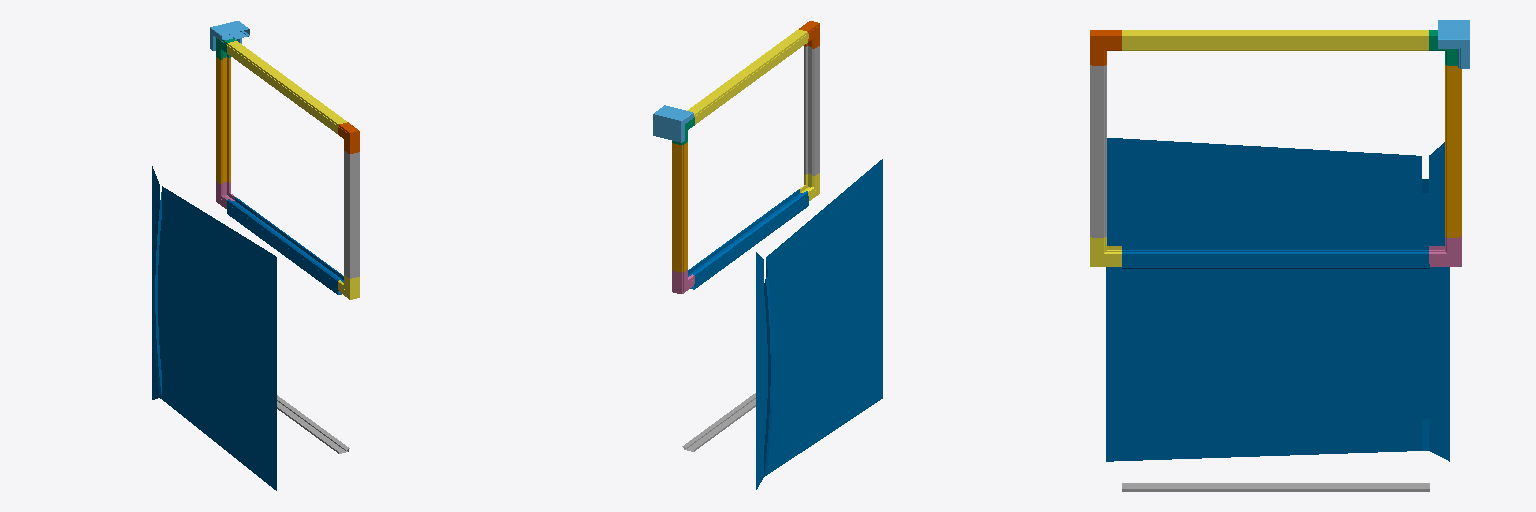
URDF robot description (partnet_87bae84777fe8b702bac1bcdfc2402d2):
<?xml version="1.0" ?>
<robot name="partnet_87bae84777fe8b702bac1bcdfc2402d2">
	<link name="base"/>
	<link name="link_0">
		<visual name="door_frame-27">
			<origin xyz="0.8040978092034378 -0.4571359999999993 -0.36598974550729024"/>
			<geometry>
				<mesh filename="textured_objs/original-4.obj"/>
			</geometry>
		</visual>
		<visual name="glass-28">
			<origin xyz="0.8040978092034378 -0.4571359999999993 -0.36598974550729024"/>
			<geometry>
				<mesh filename="textured_objs/original-2.obj"/>
			</geometry>
		</visual>
		<visual name="handle-29">
			<origin xyz="0.8040978092034378 -0.4571359999999993 -0.36598974550729024"/>
			<geometry>
				<mesh filename="textured_objs/original-3.obj"/>
			</geometry>
		</visual>
		<collision>
			<origin xyz="0.8040978092034378 -0.4571359999999993 -0.36598974550729024"/>
			<geometry>
				<mesh filename="textured_objs/original-4.obj"/>
			</geometry>
		</collision>
		<collision>
			<origin xyz="0.8040978092034378 -0.4571359999999993 -0.36598974550729024"/>
			<geometry>
				<mesh filename="textured_objs/original-2.obj"/>
			</geometry>
		</collision>
		<collision>
			<origin xyz="0.8040978092034378 -0.4571359999999993 -0.36598974550729024"/>
			<geometry>
				<mesh filename="textured_objs/original-3.obj"/>
			</geometry>
		</collision>
	</link>
	<joint name="joint_0" type="revolute">
		<origin xyz="-0.8040978092034378 0.4571359999999993 0.36598974550729024"/>
		<axis xyz="0 -1 0"/>
		<child link="link_0"/>
		<parent link="link_19"/>
		<limit lower="-0.0" upper="1.5707963267948966"/>
	</joint>
	<link name="link_1">
		<visual name="control_button-8">
			<origin xyz="-0.7917796010891323 0.14215177147656233 -0.3672469999999999"/>
			<geometry>
				<mesh filename="textured_objs/original-12.obj"/>
			</geometry>
		</visual>
		<collision>
			<origin xyz="-0.7917796010891323 0.14215177147656233 -0.3672469999999999"/>
			<geometry>
				<mesh filename="textured_objs/original-12.obj"/>
			</geometry>
		</collision>
	</link>
	<joint name="joint_1" type="fixed">
		<origin xyz="0.7917796010891323 -0.14215177147656233 0.3672469999999999"/>
		<axis xyz="0 0 -1"/>
		<child link="link_1"/>
		<parent link="link_19"/>
		<limit lower="0" upper="0.025"/>
	</joint>
	<link name="link_2">
		<visual name="control_button-9">
			<origin xyz="-0.7917796010891323 0.14215177147656233 -0.3672469999999999"/>
			<geometry>
				<mesh filename="textured_objs/original-13.obj"/>
			</geometry>
		</visual>
		<collision>
			<origin xyz="-0.7917796010891323 0.14215177147656233 -0.3672469999999999"/>
			<geometry>
				<mesh filename="textured_objs/original-13.obj"/>
			</geometry>
		</collision>
	</link>
	<joint name="joint_2" type="fixed">
		<origin xyz="0.7917796010891323 -0.14215177147656233 0.3672469999999999"/>
		<axis xyz="0 0 -1"/>
		<child link="link_2"/>
		<parent link="link_19"/>
		<limit lower="0" upper="0.025"/>
	</joint>
	<link name="link_3">
		<visual name="control_button-10">
			<origin xyz="-0.7917796010891323 0.14215177147656233 -0.3672469999999999"/>
			<geometry>
				<mesh filename="textured_objs/original-15.obj"/>
			</geometry>
		</visual>
		<collision>
			<origin xyz="-0.7917796010891323 0.14215177147656233 -0.3672469999999999"/>
			<geometry>
				<mesh filename="textured_objs/original-15.obj"/>
			</geometry>
		</collision>
	</link>
	<joint name="joint_3" type="fixed">
		<origin xyz="0.7917796010891323 -0.14215177147656233 0.3672469999999999"/>
		<axis xyz="0 0 -1"/>
		<child link="link_3"/>
		<parent link="link_19"/>
		<limit lower="0" upper="0.025"/>
	</joint>
	<link name="link_4">
		<visual name="control_button-11">
			<origin xyz="-0.7917796010891323 0.14215177147656233 -0.3672469999999999"/>
			<geometry>
				<mesh filename="textured_objs/original-14.obj"/>
			</geometry>
		</visual>
		<collision>
			<origin xyz="-0.7917796010891323 0.14215177147656233 -0.3672469999999999"/>
			<geometry>
				<mesh filename="textured_objs/original-14.obj"/>
			</geometry>
		</collision>
	</link>
	<joint name="joint_4" type="fixed">
		<origin xyz="0.7917796010891323 -0.14215177147656233 0.3672469999999999"/>
		<axis xyz="0 0 -1"/>
		<child link="link_4"/>
		<parent link="link_19"/>
		<limit lower="0" upper="0.025"/>
	</joint>
	<link name="link_5">
		<visual name="control_button-12">
			<origin xyz="-0.7917796010891323 0.14215177147656233 -0.3672469999999999"/>
			<geometry>
				<mesh filename="textured_objs/original-16.obj"/>
			</geometry>
		</visual>
		<collision>
			<origin xyz="-0.7917796010891323 0.14215177147656233 -0.3672469999999999"/>
			<geometry>
				<mesh filename="textured_objs/original-16.obj"/>
			</geometry>
		</collision>
	</link>
	<joint name="joint_5" type="fixed">
		<origin xyz="0.7917796010891323 -0.14215177147656233 0.3672469999999999"/>
		<axis xyz="0 0 -1"/>
		<child link="link_5"/>
		<parent link="link_19"/>
		<limit lower="0" upper="0.025"/>
	</joint>
	<link name="link_6">
		<visual name="control_button-13">
			<origin xyz="-0.7917796010891323 0.14215177147656233 -0.3672469999999999"/>
			<geometry>
				<mesh filename="textured_objs/original-26.obj"/>
			</geometry>
		</visual>
		<collision>
			<origin xyz="-0.7917796010891323 0.14215177147656233 -0.3672469999999999"/>
			<geometry>
				<mesh filename="textured_objs/original-26.obj"/>
			</geometry>
		</collision>
	</link>
	<joint name="joint_6" type="fixed">
		<origin xyz="0.7917796010891323 -0.14215177147656233 0.3672469999999999"/>
		<axis xyz="0 0 -1"/>
		<child link="link_6"/>
		<parent link="link_19"/>
		<limit lower="0" upper="0.025"/>
	</joint>
	<link name="link_7">
		<visual name="control_button-14">
			<origin xyz="-0.7917796010891323 0.14215177147656233 -0.3672469999999999"/>
			<geometry>
				<mesh filename="textured_objs/original-17.obj"/>
			</geometry>
		</visual>
		<collision>
			<origin xyz="-0.7917796010891323 0.14215177147656233 -0.3672469999999999"/>
			<geometry>
				<mesh filename="textured_objs/original-17.obj"/>
			</geometry>
		</collision>
	</link>
	<joint name="joint_7" type="fixed">
		<origin xyz="0.7917796010891323 -0.14215177147656233 0.3672469999999999"/>
		<axis xyz="0 0 -1"/>
		<child link="link_7"/>
		<parent link="link_19"/>
		<limit lower="0" upper="0.025"/>
	</joint>
	<link name="link_8">
		<visual name="control_button-15">
			<origin xyz="-0.7917796010891323 0.14215177147656233 -0.3672469999999999"/>
			<geometry>
				<mesh filename="textured_objs/original-19.obj"/>
			</geometry>
		</visual>
		<collision>
			<origin xyz="-0.7917796010891323 0.14215177147656233 -0.3672469999999999"/>
			<geometry>
				<mesh filename="textured_objs/original-19.obj"/>
			</geometry>
		</collision>
	</link>
	<joint name="joint_8" type="fixed">
		<origin xyz="0.7917796010891323 -0.14215177147656233 0.3672469999999999"/>
		<axis xyz="0 0 -1"/>
		<child link="link_8"/>
		<parent link="link_19"/>
		<limit lower="0" upper="0.025"/>
	</joint>
	<link name="link_9">
		<visual name="control_button-16">
			<origin xyz="-0.7917796010891323 0.14215177147656233 -0.3672469999999999"/>
			<geometry>
				<mesh filename="textured_objs/original-20.obj"/>
			</geometry>
		</visual>
		<collision>
			<origin xyz="-0.7917796010891323 0.14215177147656233 -0.3672469999999999"/>
			<geometry>
				<mesh filename="textured_objs/original-20.obj"/>
			</geometry>
		</collision>
	</link>
	<joint name="joint_9" type="fixed">
		<origin xyz="0.7917796010891323 -0.14215177147656233 0.3672469999999999"/>
		<axis xyz="0 0 -1"/>
		<child link="link_9"/>
		<parent link="link_19"/>
		<limit lower="0" upper="0.025"/>
	</joint>
	<link name="link_10">
		<visual name="control_button-17">
			<origin xyz="-0.7917796010891323 0.14215177147656233 -0.3672469999999999"/>
			<geometry>
				<mesh filename="textured_objs/original-23.obj"/>
			</geometry>
		</visual>
		<collision>
			<origin xyz="-0.7917796010891323 0.14215177147656233 -0.3672469999999999"/>
			<geometry>
				<mesh filename="textured_objs/original-23.obj"/>
			</geometry>
		</collision>
	</link>
	<joint name="joint_10" type="fixed">
		<origin xyz="0.7917796010891323 -0.14215177147656233 0.3672469999999999"/>
		<axis xyz="0 0 -1"/>
		<child link="link_10"/>
		<parent link="link_19"/>
		<limit lower="0" upper="0.025"/>
	</joint>
	<link name="link_11">
		<visual name="control_button-18">
			<origin xyz="-0.7917796010891323 0.14215177147656233 -0.3672469999999999"/>
			<geometry>
				<mesh filename="textured_objs/original-27.obj"/>
			</geometry>
		</visual>
		<collision>
			<origin xyz="-0.7917796010891323 0.14215177147656233 -0.3672469999999999"/>
			<geometry>
				<mesh filename="textured_objs/original-27.obj"/>
			</geometry>
		</collision>
	</link>
	<joint name="joint_11" type="fixed">
		<origin xyz="0.7917796010891323 -0.14215177147656233 0.3672469999999999"/>
		<axis xyz="0 0 -1"/>
		<child link="link_11"/>
		<parent link="link_19"/>
		<limit lower="0" upper="0.025"/>
	</joint>
	<link name="link_12">
		<visual name="control_button-19">
			<origin xyz="-0.7917796010891323 0.14215177147656233 -0.3672469999999999"/>
			<geometry>
				<mesh filename="textured_objs/original-21.obj"/>
			</geometry>
		</visual>
		<collision>
			<origin xyz="-0.7917796010891323 0.14215177147656233 -0.3672469999999999"/>
			<geometry>
				<mesh filename="textured_objs/original-21.obj"/>
			</geometry>
		</collision>
	</link>
	<joint name="joint_12" type="fixed">
		<origin xyz="0.7917796010891323 -0.14215177147656233 0.3672469999999999"/>
		<axis xyz="0 0 -1"/>
		<child link="link_12"/>
		<parent link="link_19"/>
		<limit lower="0" upper="0.025"/>
	</joint>
	<link name="link_13">
		<visual name="control_button-20">
			<origin xyz="-0.7917796010891323 0.14215177147656233 -0.3672469999999999"/>
			<geometry>
				<mesh filename="textured_objs/original-22.obj"/>
			</geometry>
		</visual>
		<collision>
			<origin xyz="-0.7917796010891323 0.14215177147656233 -0.3672469999999999"/>
			<geometry>
				<mesh filename="textured_objs/original-22.obj"/>
			</geometry>
		</collision>
	</link>
	<joint name="joint_13" type="fixed">
		<origin xyz="0.7917796010891323 -0.14215177147656233 0.3672469999999999"/>
		<axis xyz="0 0 -1"/>
		<child link="link_13"/>
		<parent link="link_19"/>
		<limit lower="0" upper="0.025"/>
	</joint>
	<link name="link_14">
		<visual name="control_button-21">
			<origin xyz="-0.7917796010891323 0.14215177147656233 -0.3672469999999999"/>
			<geometry>
				<mesh filename="textured_objs/original-18.obj"/>
			</geometry>
		</visual>
		<collision>
			<origin xyz="-0.7917796010891323 0.14215177147656233 -0.3672469999999999"/>
			<geometry>
				<mesh filename="textured_objs/original-18.obj"/>
			</geometry>
		</collision>
	</link>
	<joint name="joint_14" type="fixed">
		<origin xyz="0.7917796010891323 -0.14215177147656233 0.3672469999999999"/>
		<axis xyz="0 0 -1"/>
		<child link="link_14"/>
		<parent link="link_19"/>
		<limit lower="0" upper="0.025"/>
	</joint>
	<link name="link_15">
		<visual name="control_button-22">
			<origin xyz="-0.7917796010891323 0.14215177147656233 -0.3672469999999999"/>
			<geometry>
				<mesh filename="textured_objs/original-25.obj"/>
			</geometry>
		</visual>
		<collision>
			<origin xyz="-0.7917796010891323 0.14215177147656233 -0.3672469999999999"/>
			<geometry>
				<mesh filename="textured_objs/original-25.obj"/>
			</geometry>
		</collision>
	</link>
	<joint name="joint_15" type="fixed">
		<origin xyz="0.7917796010891323 -0.14215177147656233 0.3672469999999999"/>
		<axis xyz="0 0 -1"/>
		<child link="link_15"/>
		<parent link="link_19"/>
		<limit lower="0" upper="0.025"/>
	</joint>
	<link name="link_16">
		<visual name="control_button-23">
			<origin xyz="-0.7917796010891323 0.14215177147656233 -0.3672469999999999"/>
			<geometry>
				<mesh filename="textured_objs/original-11.obj"/>
			</geometry>
		</visual>
		<collision>
			<origin xyz="-0.7917796010891323 0.14215177147656233 -0.3672469999999999"/>
			<geometry>
				<mesh filename="textured_objs/original-11.obj"/>
			</geometry>
		</collision>
	</link>
	<joint name="joint_16" type="fixed">
		<origin xyz="0.7917796010891323 -0.14215177147656233 0.3672469999999999"/>
		<axis xyz="0 0 -1"/>
		<child link="link_16"/>
		<parent link="link_19"/>
		<limit lower="0" upper="0.025"/>
	</joint>
	<link name="link_17">
		<visual name="control_button-24">
			<origin xyz="-0.7917796010891323 0.14215177147656233 -0.3672469999999999"/>
			<geometry>
				<mesh filename="textured_objs/original-10.obj"/>
			</geometry>
		</visual>
		<collision>
			<origin xyz="-0.7917796010891323 0.14215177147656233 -0.3672469999999999"/>
			<geometry>
				<mesh filename="textured_objs/original-10.obj"/>
			</geometry>
		</collision>
	</link>
	<joint name="joint_17" type="fixed">
		<origin xyz="0.7917796010891323 -0.14215177147656233 0.3672469999999999"/>
		<axis xyz="0 0 -1"/>
		<child link="link_17"/>
		<parent link="link_19"/>
		<limit lower="0" upper="0.025"/>
	</joint>
	<link name="link_18">
		<visual name="control_button-25">
			<origin xyz="-0.7917796010891323 0.14215177147656233 -0.3672469999999999"/>
			<geometry>
				<mesh filename="textured_objs/original-24.obj"/>
			</geometry>
		</visual>
		<collision>
			<origin xyz="-0.7917796010891323 0.14215177147656233 -0.3672469999999999"/>
			<geometry>
				<mesh filename="textured_objs/original-24.obj"/>
			</geometry>
		</collision>
	</link>
	<joint name="joint_18" type="fixed">
		<origin xyz="0.7917796010891323 -0.14215177147656233 0.3672469999999999"/>
		<axis xyz="0 0 -1"/>
		<child link="link_18"/>
		<parent link="link_19"/>
		<limit lower="0" upper="0.025"/>
	</joint>
	<link name="link_19">
		<visual name="surface-4">
			<origin xyz="0 0 0"/>
			<geometry>
				<mesh filename="textured_objs/new-0.obj"/>
			</geometry>
		</visual>
		<visual name="frame-5">
			<origin xyz="0 0 0"/>
			<geometry>
				<mesh filename="textured_objs/new-3.obj"/>
			</geometry>
		</visual>
		<visual name="frame-5">
			<origin xyz="0 0 0"/>
			<geometry>
				<mesh filename="textured_objs/original-6.obj"/>
			</geometry>
		</visual>
		<visual name="frame-5">
			<origin xyz="0 0 0"/>
			<geometry>
				<mesh filename="textured_objs/new-1.obj"/>
			</geometry>
		</visual>
		<visual name="display_panel-26">
			<origin xyz="0 0 0"/>
			<geometry>
				<mesh filename="textured_objs/new-2.obj"/>
			</geometry>
		</visual>
		<collision>
			<origin xyz="0 0 0"/>
			<geometry>
				<mesh filename="textured_objs/new-0.obj"/>
			</geometry>
		</collision>
		<collision>
			<origin xyz="0 0 0"/>
			<geometry>
				<mesh filename="textured_objs/new-3.obj"/>
			</geometry>
		</collision>
		<collision>
			<origin xyz="0 0 0"/>
			<geometry>
				<mesh filename="textured_objs/original-6.obj"/>
			</geometry>
		</collision>
		<collision>
			<origin xyz="0 0 0"/>
			<geometry>
				<mesh filename="textured_objs/new-1.obj"/>
			</geometry>
		</collision>
		<collision>
			<origin xyz="0 0 0"/>
			<geometry>
				<mesh filename="textured_objs/new-2.obj"/>
			</geometry>
		</collision>
	</link>
	<joint name="joint_19" type="fixed">
		<origin rpy="1.570796326794897 0 -1.570796326794897" xyz="0 0 0"/>
		<child link="link_19"/>
		<parent link="base"/>
	</joint>
</robot>

--- Facts derived from the render (not from the file) ---
Views: 3 orthographic renders of the robot side by side, from view 1: azimuth 30°, elevation 25°; view 2: azimuth 150°, elevation 25°; view 3: azimuth 270°, elevation 25°.
Robot: partnet_87bae84777fe8b702bac1bcdfc2402d2 — 21 links, 20 joints (1 revolute, 19 fixed); root link base; default pose: all joints at 0.
Visible links, largest first — view 1: link_19, link_18, link_11, link_6, link_15, link_14, link_0, link_3; view 2: link_19, link_18, link_11, link_6, link_15, link_0, link_14, link_3; view 3: link_19, link_18, link_11, link_6, link_15, link_3, link_14, link_0, link_12, link_13, link_10.
Boxes of the visible links, <box> form: link_19: <box>152,166,276,490</box>; link_18: <box>227,41,346,133</box>; link_11: <box>227,197,343,288</box>; link_6: <box>344,151,359,278</box>; link_15: <box>216,57,230,183</box>; link_14: <box>277,395,349,453</box>; link_0: <box>210,21,249,50</box>; link_3: <box>227,209,341,294</box>; link_19: <box>756,159,882,489</box>; link_18: <box>687,29,808,124</box>; link_11: <box>688,189,808,285</box>; link_6: <box>804,46,819,175</box>; link_15: <box>672,142,687,272</box>; link_0: <box>653,105,693,142</box>; link_14: <box>682,393,755,451</box>; link_3: <box>690,201,808,289</box>; link_19: <box>1106,138,1449,461</box>; link_18: <box>1122,30,1428,50</box>; link_11: <box>1122,246,1428,263</box>; link_6: <box>1090,65,1106,237</box>; link_15: <box>1445,65,1461,237</box>; link_3: <box>1122,264,1429,272</box>; link_14: <box>1122,483,1429,491</box>; link_0: <box>1438,20,1469,68</box>; link_12: <box>1090,30,1121,65</box>; link_13: <box>1429,237,1461,266</box>; link_10: <box>1090,237,1121,266</box>.
Bounding box of the posed robot: 0.4841 × 1.15 × 1.62 m (x, y, z).
Meshes: 26 distinct files referenced, 13 mesh visuals loaded (13 OBJ); not drawn: 13 (reference not matched to a file when rendering).